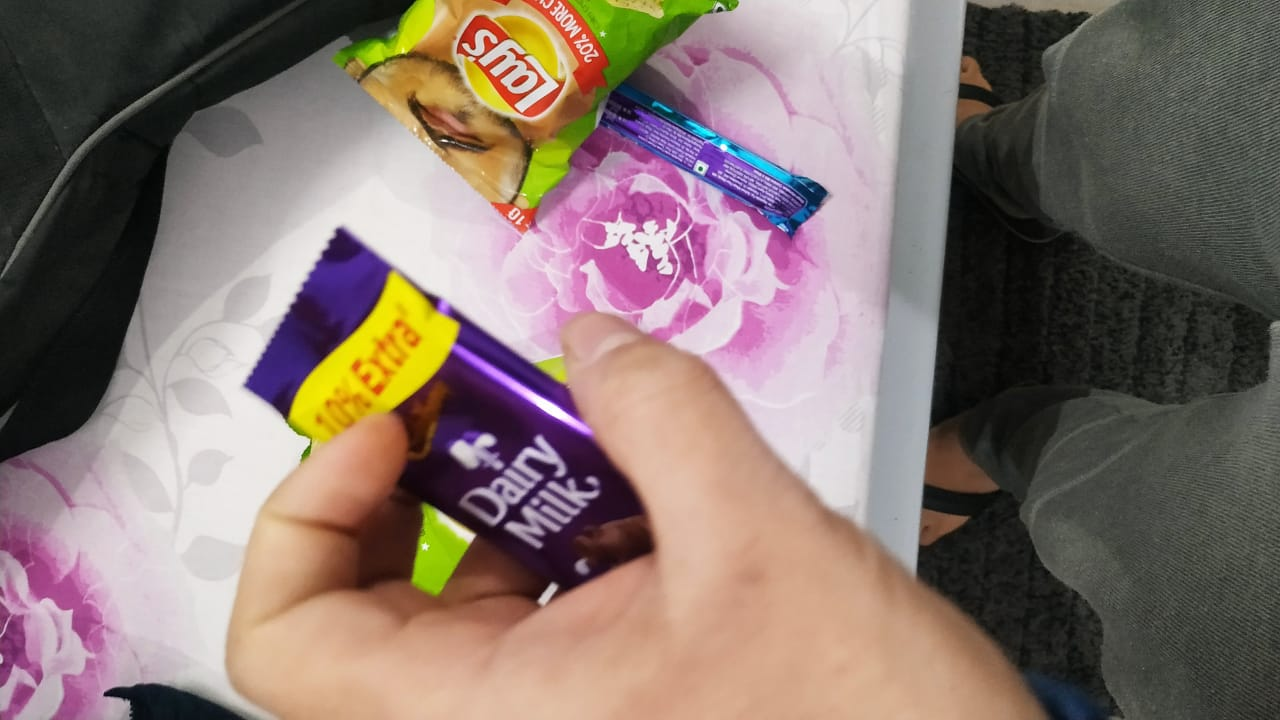dairy milk: (218, 230, 658, 609)
lays chips: (313, 1, 695, 234)
perk: (602, 82, 841, 243)
